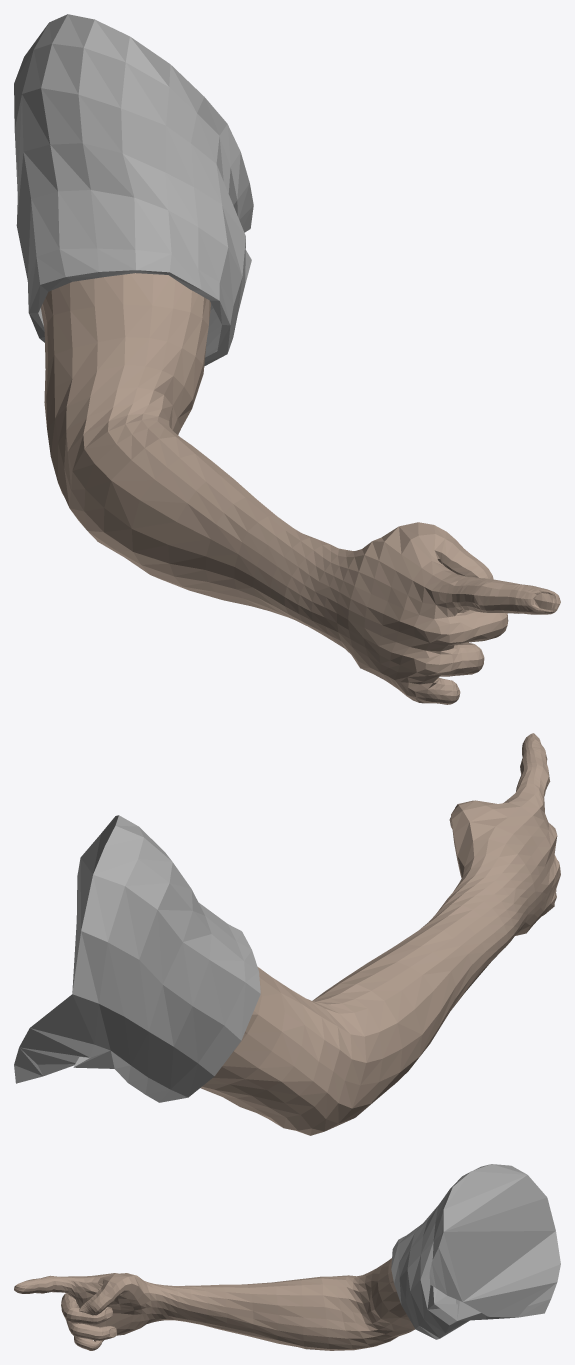
File: edited-Human_right_arm.dae
3 views of the same model, one above another, from view 1: azimuth 30°, elevation 25°; view 2: azimuth 150°, elevation 25°; view 3: azimuth 270°, elevation 25° (orthographic). The views are drawn at different scales.
Visible parts, largest first — view 1: human_20140307_human_20140307, human_20140307_worksuit; view 2: human_20140307_human_20140307, human_20140307_worksuit; view 3: human_20140307_worksuit, human_20140307_human_20140307.
Boxes of the visible parts, box(x1,y1,x2,y2) form: human_20140307_human_20140307: box(41, 273, 560, 704); human_20140307_worksuit: box(14, 14, 253, 366); human_20140307_human_20140307: box(200, 733, 560, 1135); human_20140307_worksuit: box(14, 815, 260, 1102); human_20140307_worksuit: box(391, 1164, 560, 1339); human_20140307_human_20140307: box(14, 1258, 415, 1350).
Bounding box in the file's own units: 0.1577 × 0.5702 × 0.2375.
